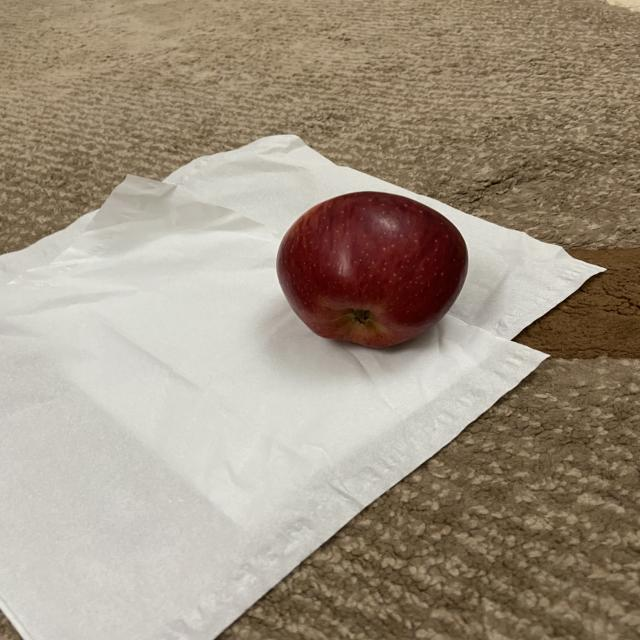apple: (271, 187, 472, 357)
